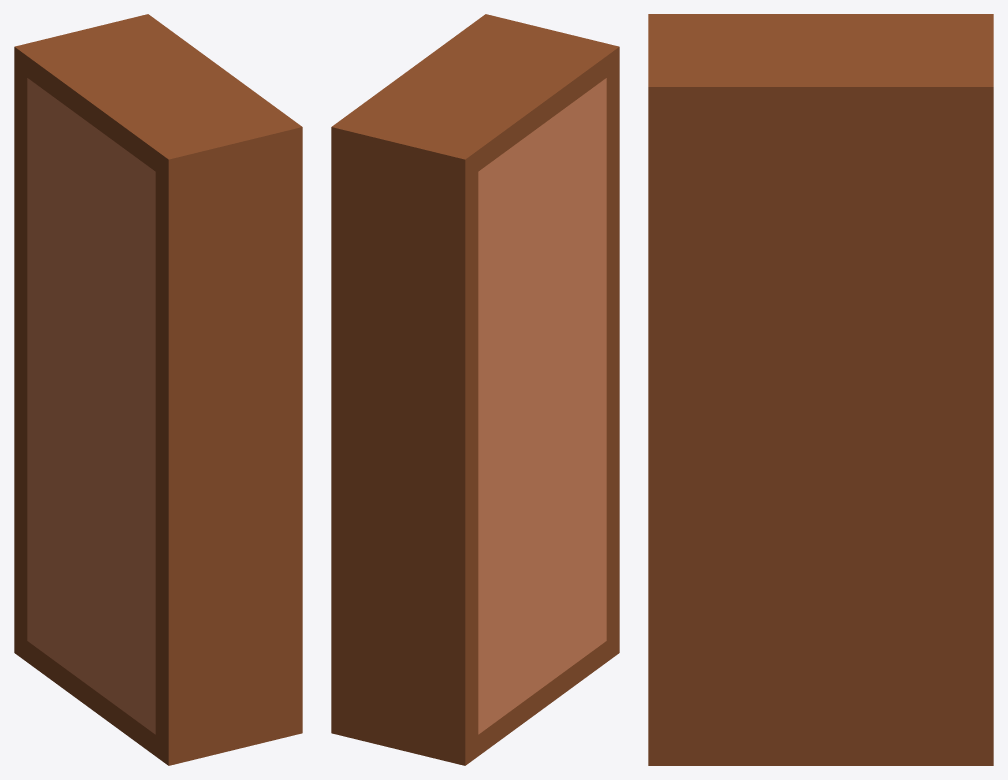
File: closet_01_mockup.fbx
3 renders of one model, left to right at view 1: azimuth 30°, elevation 25°; view 2: azimuth 150°, elevation 25°; view 3: azimuth 270°, elevation 25°, orthographic. The views are drawn at different scales.
Parts seen in each view (by area): view 1: closet_01, door_left, door_right; view 2: closet_01, door_left, door_right; view 3: closet_01.
Part boxes in pixels (<box>): closet_01: <box>14,14,302,765</box>; door_left: <box>27,78,91,687</box>; door_right: <box>91,125,155,734</box>; closet_01: <box>331,14,619,765</box>; door_left: <box>478,125,542,734</box>; door_right: <box>542,78,606,687</box>; closet_01: <box>648,14,993,765</box>.
Size of the model in its own units: 0.3928 by 0.7843 by 1.7.
